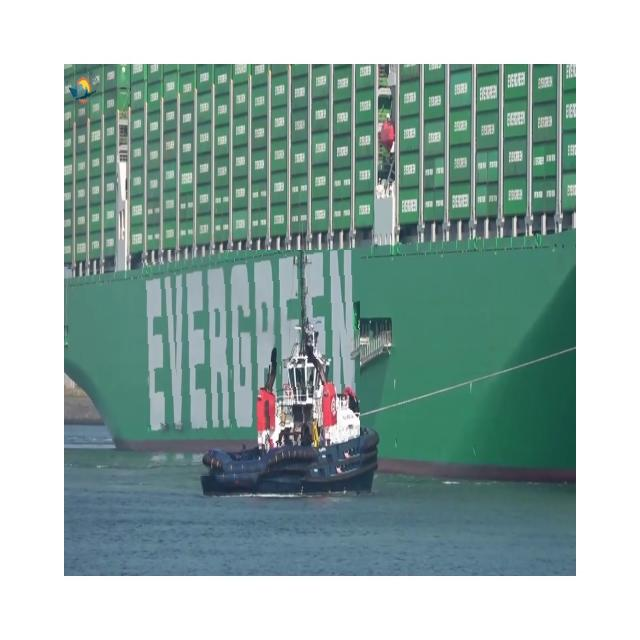OCR: (131, 250, 360, 481)
